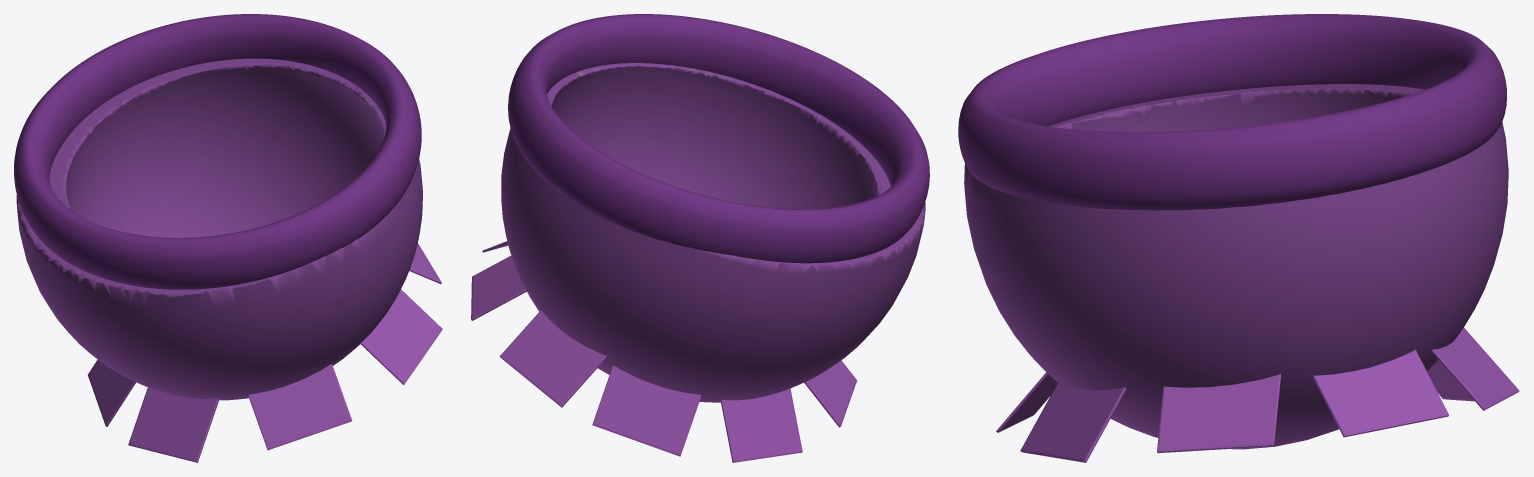
File: cauldron.glb
3 renders of one model, left to right at view 1: azimuth 30°, elevation 25°; view 2: azimuth 150°, elevation 25°; view 3: azimuth 270°, elevation 25°, orthographic. The views are drawn at different scales.
Parts seen in each view (by area): view 1: Sculpt, Torus, Square.0002, Square.0001, Square.0003, Square, Square.0004; view 2: Sculpt, Torus, Square.0007, Square.0006, Square, Square.0005, Square.0001; view 3: Sculpt, Torus, Square.0004, Square.0005, Square.0003, Square.0006, Square.0002, Square.0007.
Boxes of the visible parts, x1,y1,x2,y2 form: Sculpt: (16,58,422,400); Torus: (14,14,421,289); Square.0002: (248,364,352,450); Square.0001: (128,387,219,462); Square.0003: (360,289,442,384); Square: (88,359,135,426); Square.0004: (409,243,441,284); Sculpt: (501,63,925,402); Torus: (508,14,929,263); Square.0007: (592,365,701,456); Square.0006: (499,310,607,407); Square: (720,388,802,462); Square.0005: (471,255,527,320); Square.0001: (804,360,856,427); Sculpt: (964,84,1508,449); Torus: (958,14,1506,210); Square.0004: (1157,374,1281,453); Square.0005: (1313,349,1448,437); Square.0003: (1020,381,1126,462); Square.0006: (1431,327,1519,410); Square.0002: (996,372,1057,432); Square.0007: (1427,360,1474,401).
Size of the model in its own units: 3.11 by 2.54 by 2.93.
